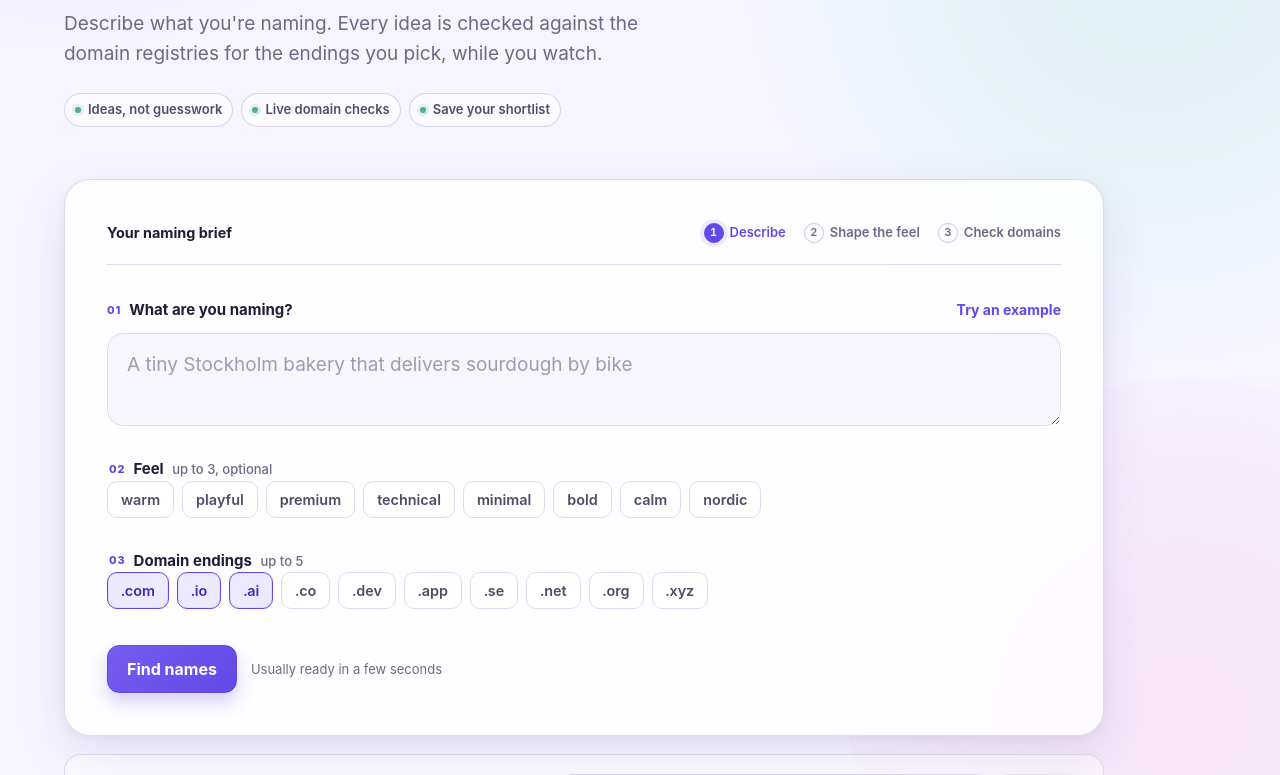
it: App › explains errors from the server
(page scrolled)
Type "Ceramic cups" into the text box labelled "What are you naming?" at (584, 380), box [107, 334, 1061, 426]
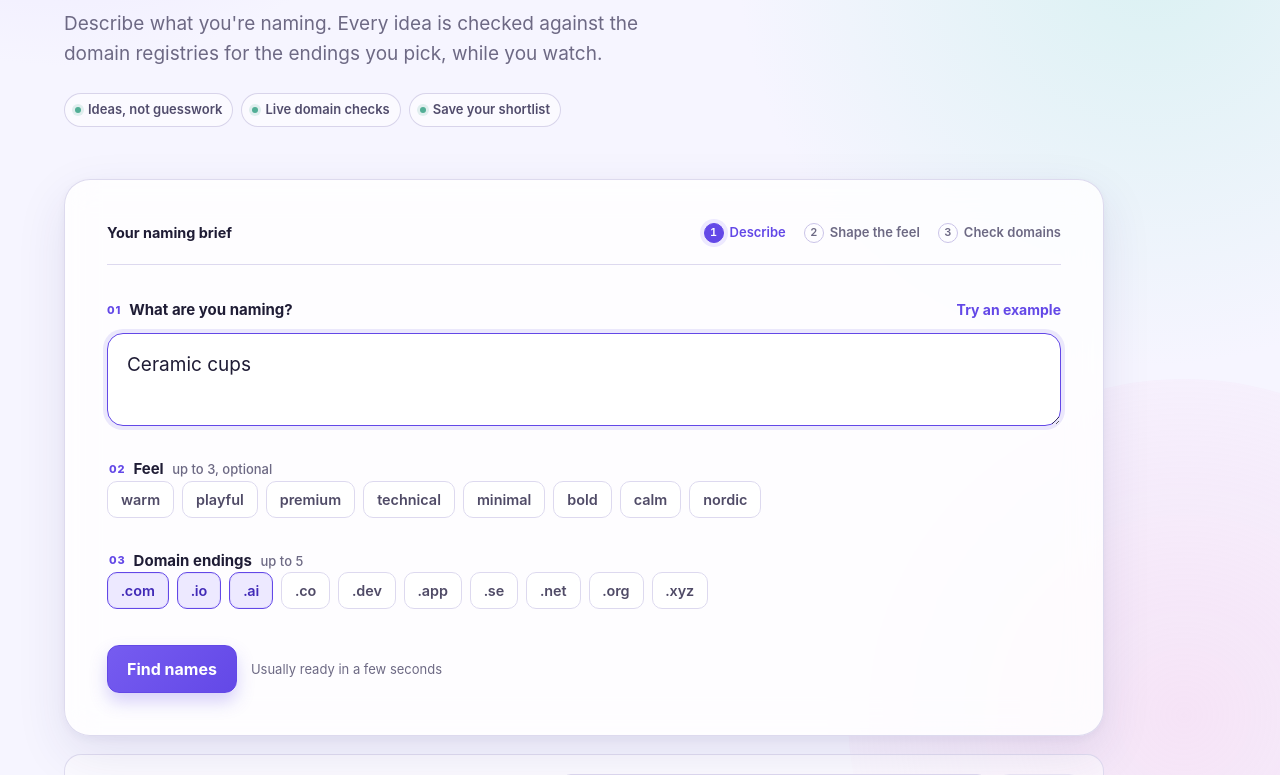
Click the button "Find names" at (172, 669), box [107, 645, 237, 693]
(page scrolled)
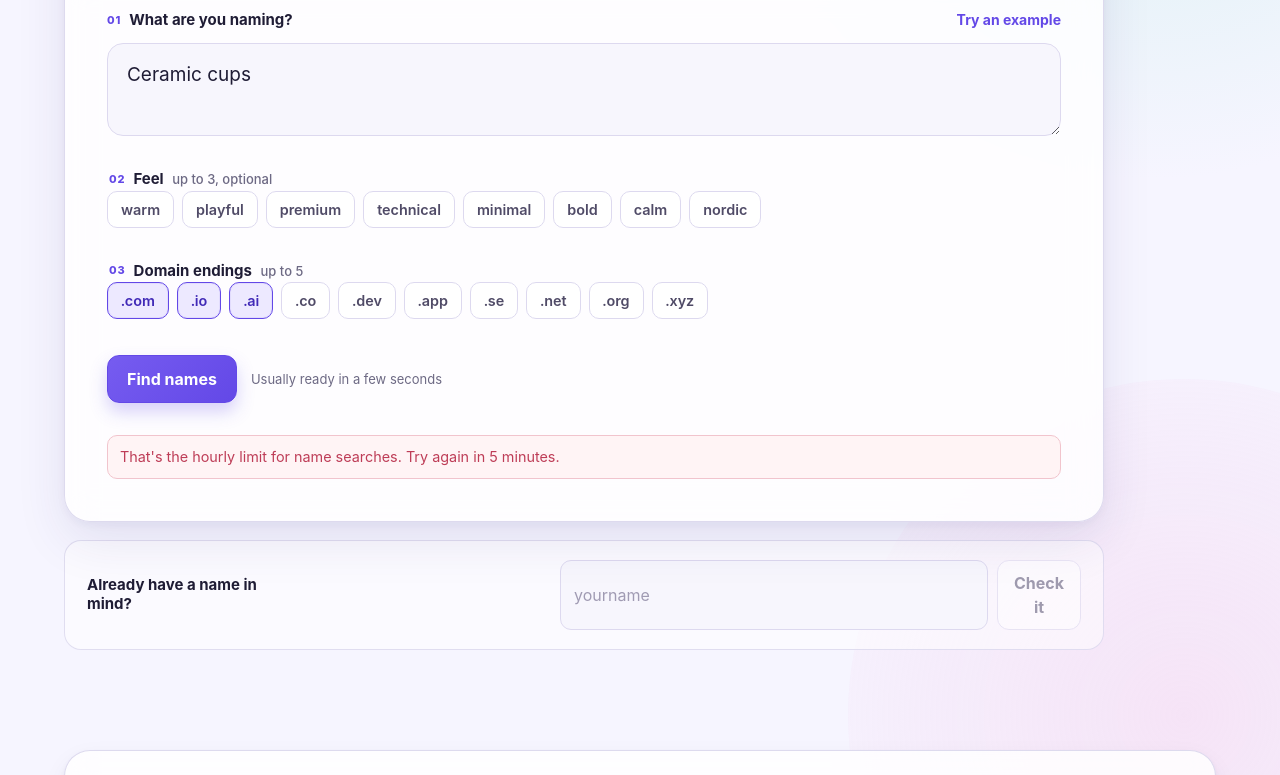
Expected: the button "Find names" is enabled, [107, 355, 237, 403]
Expected: the message shows "hourly limit", [120, 448, 560, 465]
